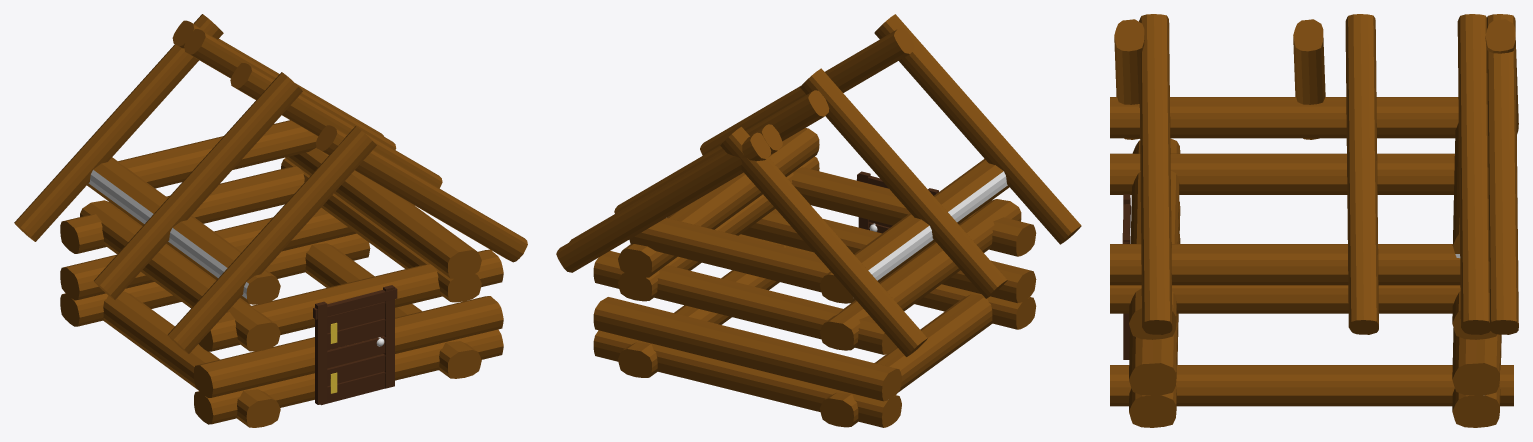
Rendered from HouseLow.fbx.
The picture shows the model from 3 angles, left to right: view 1: azimuth 30°, elevation 25°; view 2: azimuth 150°, elevation 25°; view 3: azimuth 270°, elevation 25°; orthographic projection. The views are drawn at different scales.
Parts seen in each view (by area): view 1: Cube.026, Cube.040, Cube.009, Cube.054, Cube.017, Cube.020, Cube.011, Cube.003, Cube.029, Cube, Cube.015, Cube.023 (+16 smaller); view 2: Cube.013, Cube.015, Cube.040, Cube.054, Cube.026, Cube.012, Cube.023, Cube.055, Cube.020, Cube.003, Cube.011, Cube.017 (+8 smaller); view 3: Cube.004, Cube.017, Cube.020, Cube.003, Cube.045, Cube.029, Cube.053, Cube.055, Cube.007, Cube.009, Cube.013, Cube.040 (+8 smaller).
Part boxes in pixels (box(x1,y1,x2,y2)): Cube.026: box(167, 126, 376, 354); Cube.040: box(94, 72, 302, 299); Cube.009: box(194, 296, 503, 397); Cube.054: box(14, 14, 223, 241); Cube.017: box(285, 147, 481, 278); Cube.020: box(87, 157, 280, 304); Cube.011: box(198, 249, 503, 351); Cube.003: box(80, 200, 280, 351); Cube.029: box(315, 125, 527, 262); Cube: box(103, 291, 280, 427); Cube.015: box(60, 166, 304, 253); Cube.023: box(118, 120, 317, 188); Cube.013: box(593, 297, 901, 401); Cube.015: box(593, 251, 896, 354); Cube.040: box(800, 68, 1007, 298); Cube.054: box(720, 127, 927, 356); Cube.026: box(874, 14, 1081, 244); Cube.012: box(593, 330, 901, 427); Cube.023: box(629, 218, 830, 292); Cube.055: box(556, 132, 771, 272); Cube.020: box(820, 159, 1009, 303); Cube.003: box(820, 199, 1021, 350); Cube.011: box(792, 167, 1036, 256); Cube.017: box(618, 128, 819, 277); Cube.004: box(1110, 365, 1513, 406); Cube.017: box(1110, 244, 1460, 285); Cube.020: box(1110, 97, 1458, 138); Cube.003: box(1110, 153, 1454, 194); Cube.045: box(1345, 14, 1378, 334); Cube.029: box(1139, 14, 1172, 334); Cube.053: box(1457, 14, 1490, 334); Cube.055: box(1487, 14, 1518, 334); Cube.007: box(1110, 285, 1460, 313); Cube.009: box(1129, 201, 1180, 395); Cube.013: box(1452, 328, 1500, 395); Cube.040: box(1293, 19, 1325, 139).
Bounding box in the file's own units: 1019 × 717 × 818.
